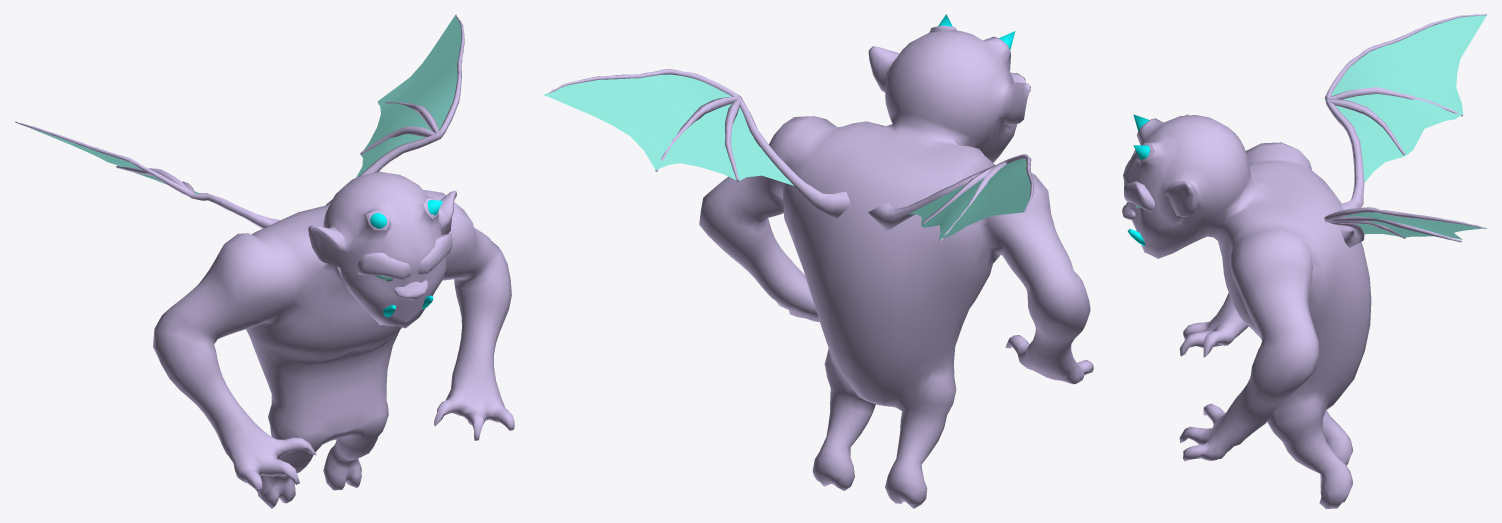
File: SM_gargoyle.fbx
The picture shows the model from 3 angles, left to right: view 1: azimuth 30°, elevation 25°; view 2: azimuth 150°, elevation 25°; view 3: azimuth 270°, elevation 25°; orthographic projection. The views are drawn at different scales.
Visible parts, largest first — view 1: SM_gargoyle; view 2: SM_gargoyle; view 3: SM_gargoyle.
Boxes of the visible parts, left/top/right/bottom form: SM_gargoyle: left=15, top=14, right=514, bottom=508; SM_gargoyle: left=544, top=14, right=1093, bottom=508; SM_gargoyle: left=1122, top=14, right=1487, bottom=508.
Size of the model in its own units: 203 by 164 by 146.
